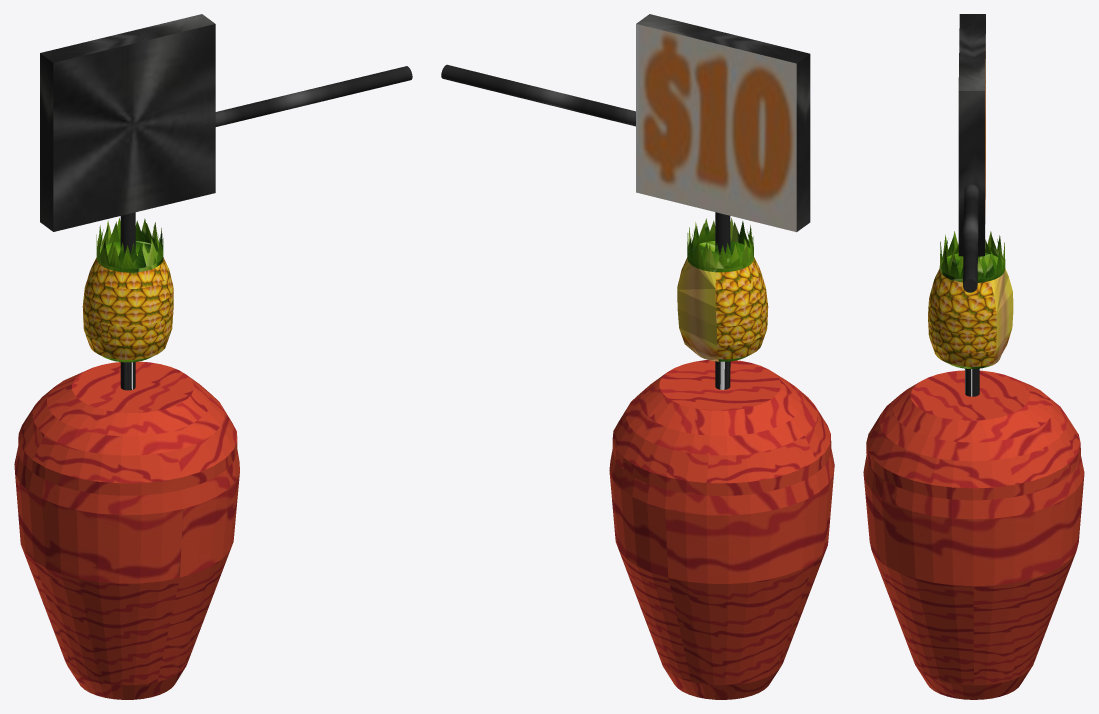
Rendered from anuncio.obj.
3 views of the same model, side by side, from view 1: azimuth 30°, elevation 25°; view 2: azimuth 150°, elevation 25°; view 3: azimuth 270°, elevation 25° (orthographic). The views are drawn at different scales.
Visible parts, largest first — view 1: Cylinder; view 2: Cylinder; view 3: Cylinder.
Part boxes in pixels (x1,y1,x2,y2): Cylinder: (14, 14, 412, 699); Cylinder: (441, 14, 834, 699); Cylinder: (863, 14, 1084, 699).
Size of the model in its own units: 95.86 by 155 by 49.65.
Materials: 1 (1 with a texture image).
